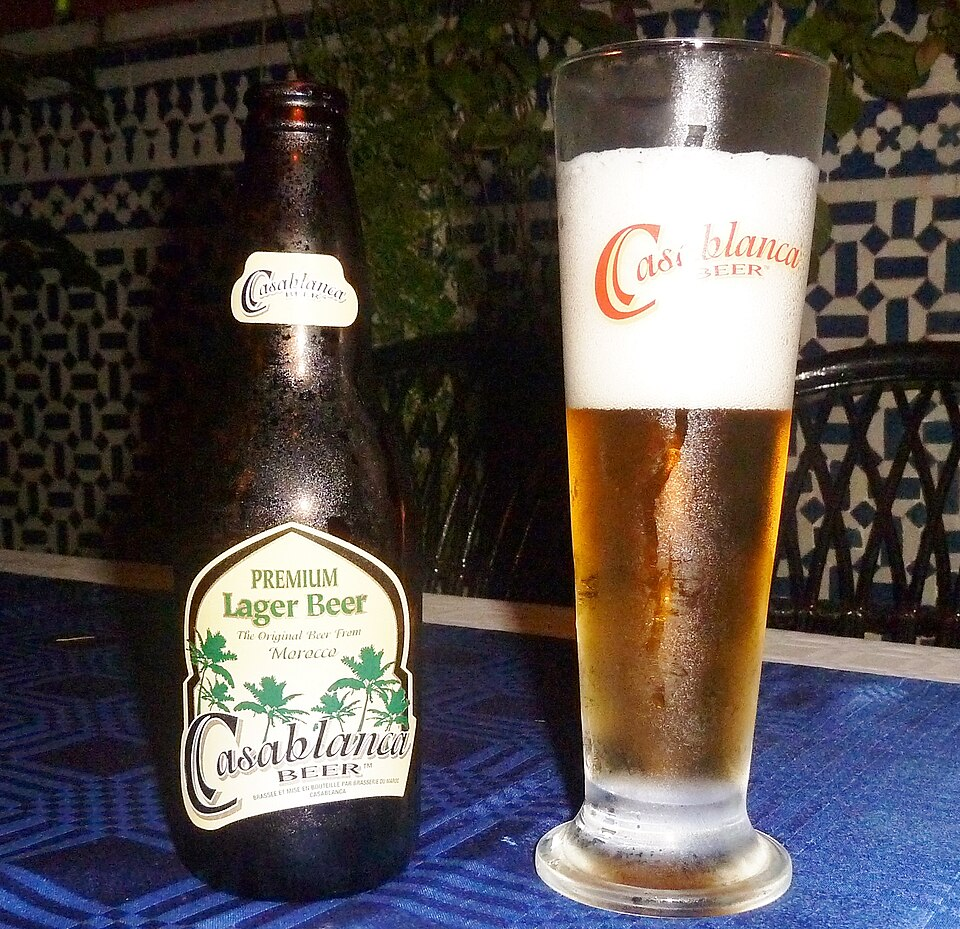beer-bottle: (186, 133, 419, 902)
